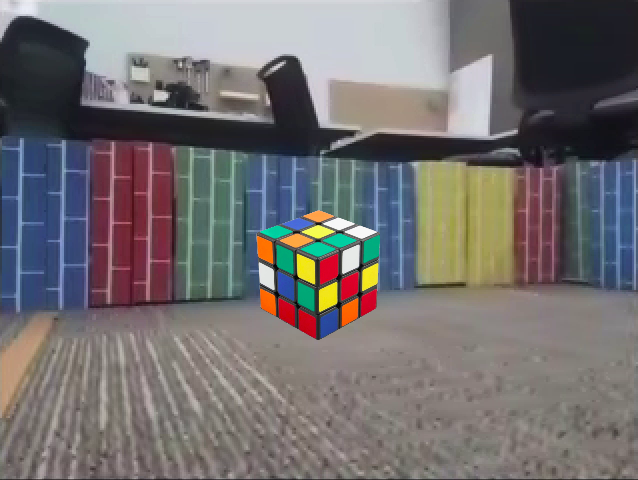bottle: (184, 205, 235, 389)
